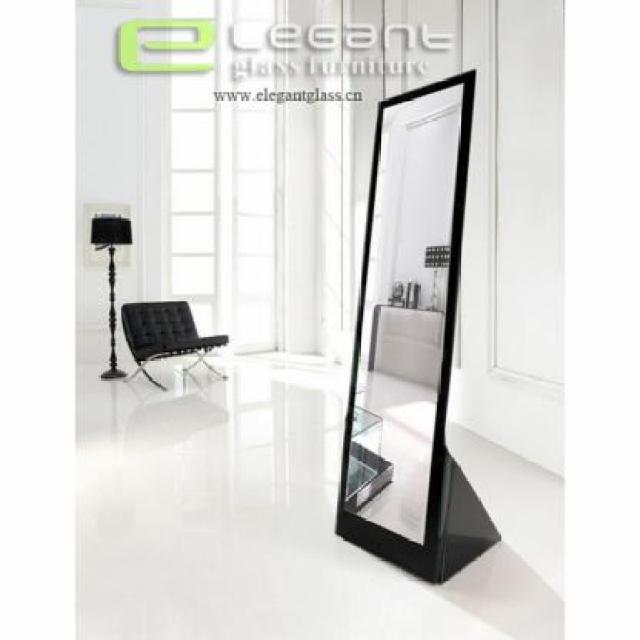floor: (77, 347, 568, 640)
